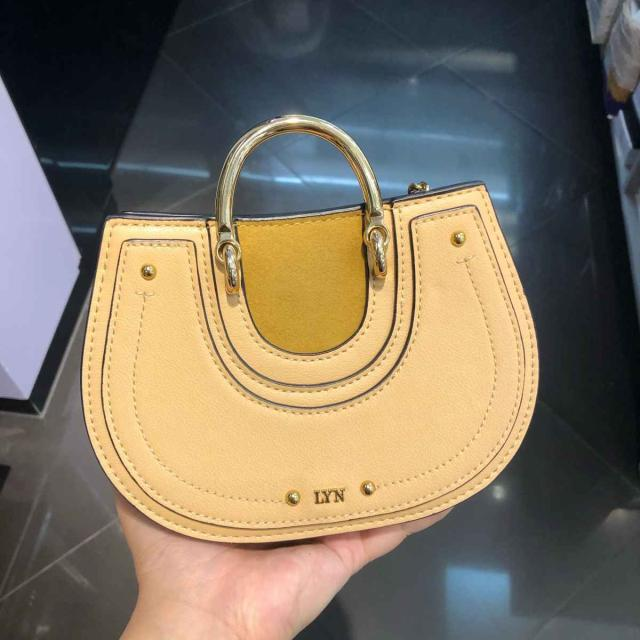Handbag: (81, 170, 542, 552)
